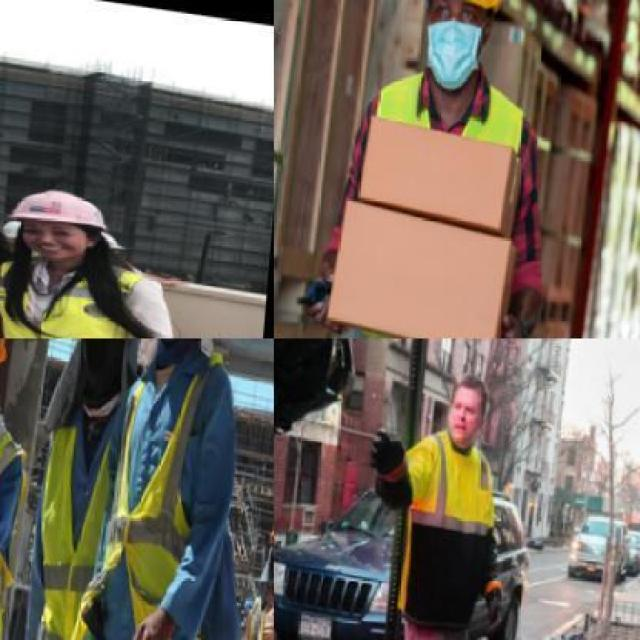Vest: (346, 57, 540, 337), (102, 338, 246, 638), (23, 384, 128, 638), (400, 437, 506, 635), (0, 237, 168, 337), (0, 413, 38, 638)
